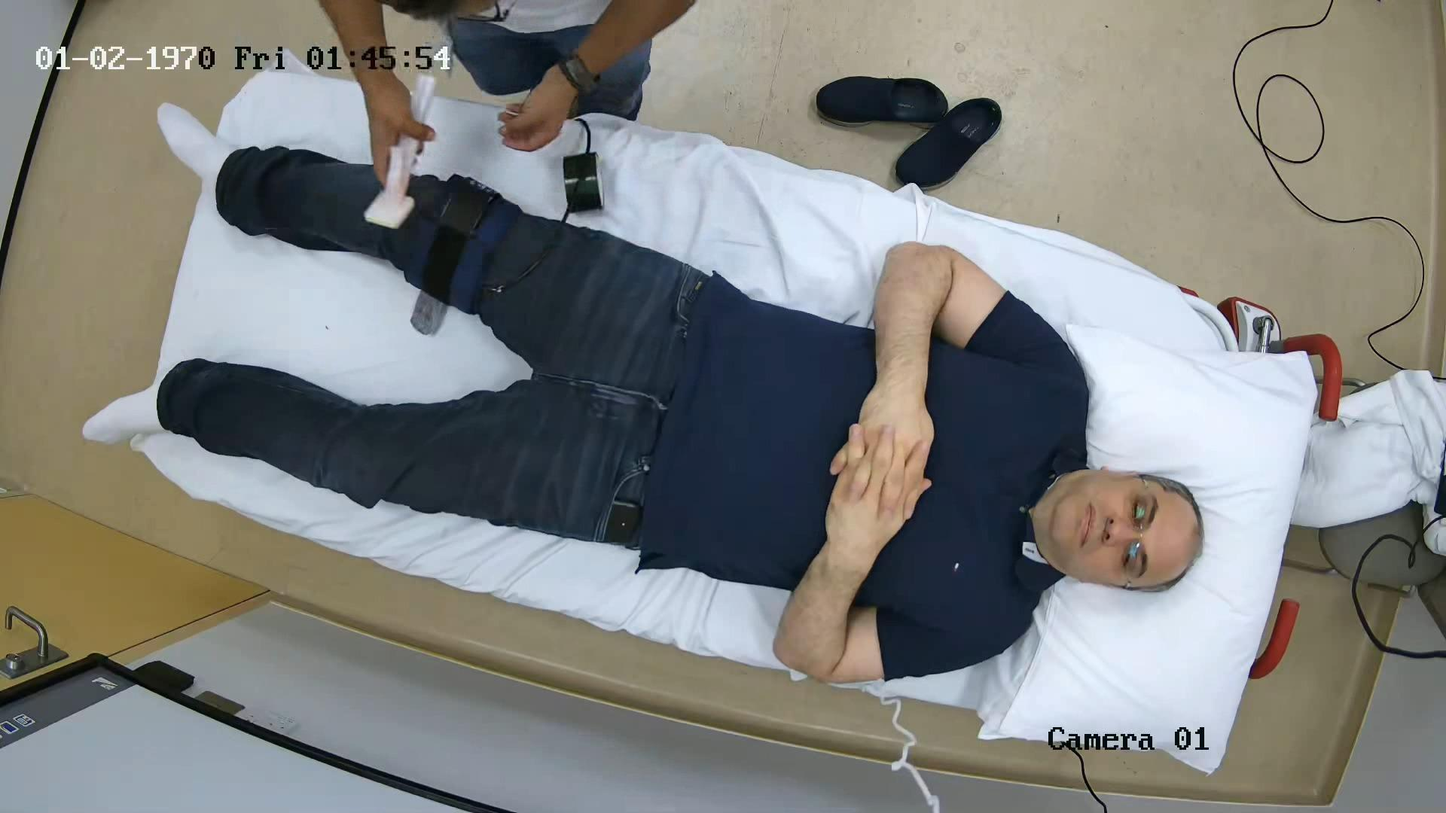bed: (134, 61, 1341, 772)
patient: (157, 146, 1204, 681)
prepstick: (365, 140, 422, 228)
tourniquet: (398, 175, 528, 314)
